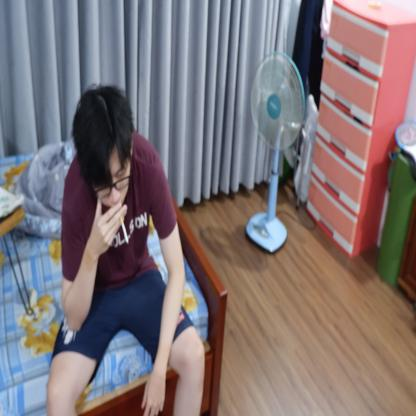cigarette: (119, 215, 130, 246)
person: (45, 81, 208, 415)
